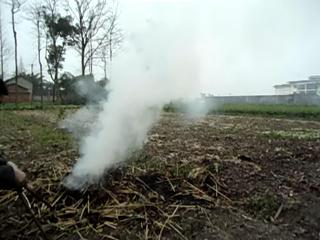yanwu: (60, 11, 210, 190)
